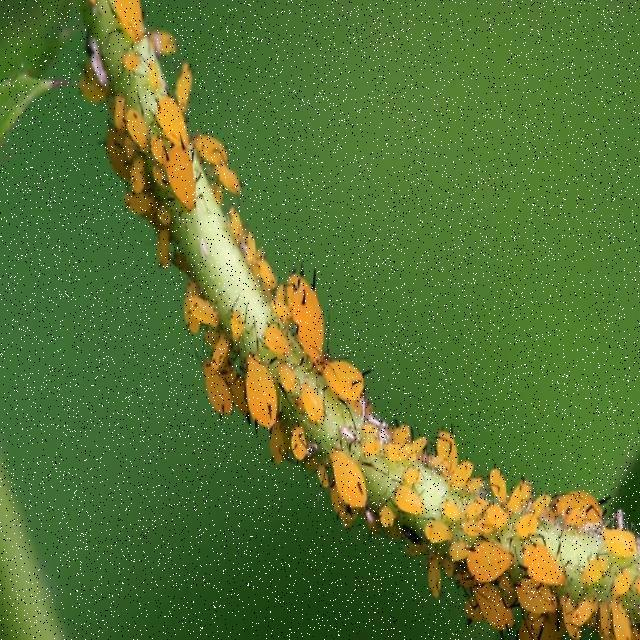Aphids: (279, 239, 335, 375), (548, 478, 625, 544), (242, 332, 285, 435), (321, 434, 371, 516), (319, 354, 377, 417), (516, 526, 569, 594), (196, 350, 238, 425), (176, 275, 234, 329), (468, 528, 515, 588), (425, 419, 463, 482), (295, 375, 328, 444), (386, 479, 431, 522), (206, 157, 251, 198), (484, 459, 518, 510), (388, 414, 417, 467)
